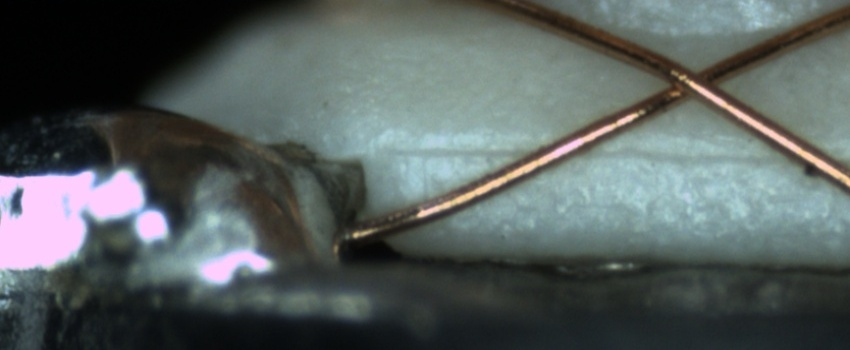CL: (642, 49, 745, 114)
DL: (386, 121, 850, 183)
